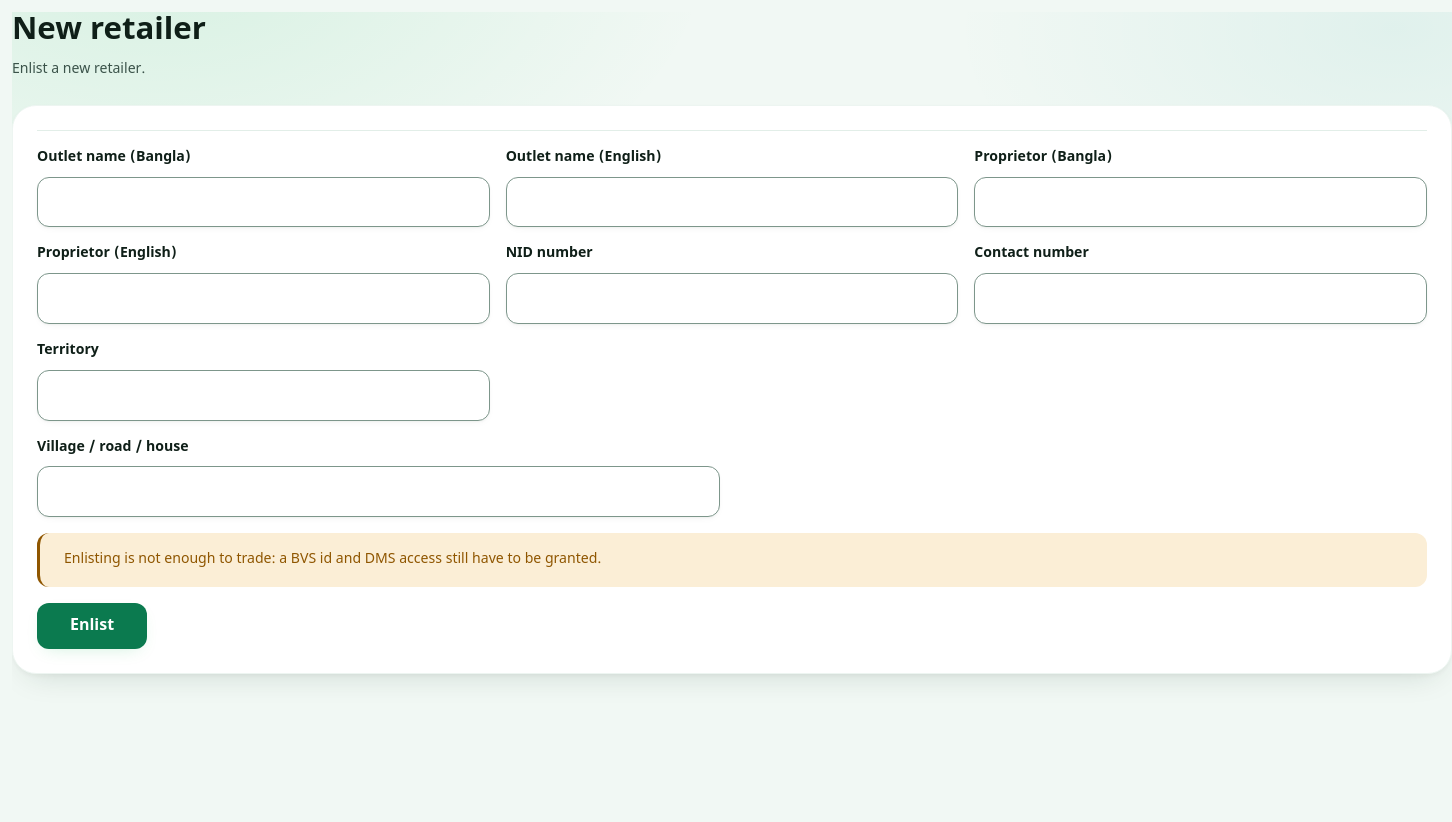
Scenario: retailers › holds a retailer record to the same name rules as an e-SAF
In the field labelled "Outlet name (Bangla)": [263, 202] box [38,178,489,226], type "Talukder"
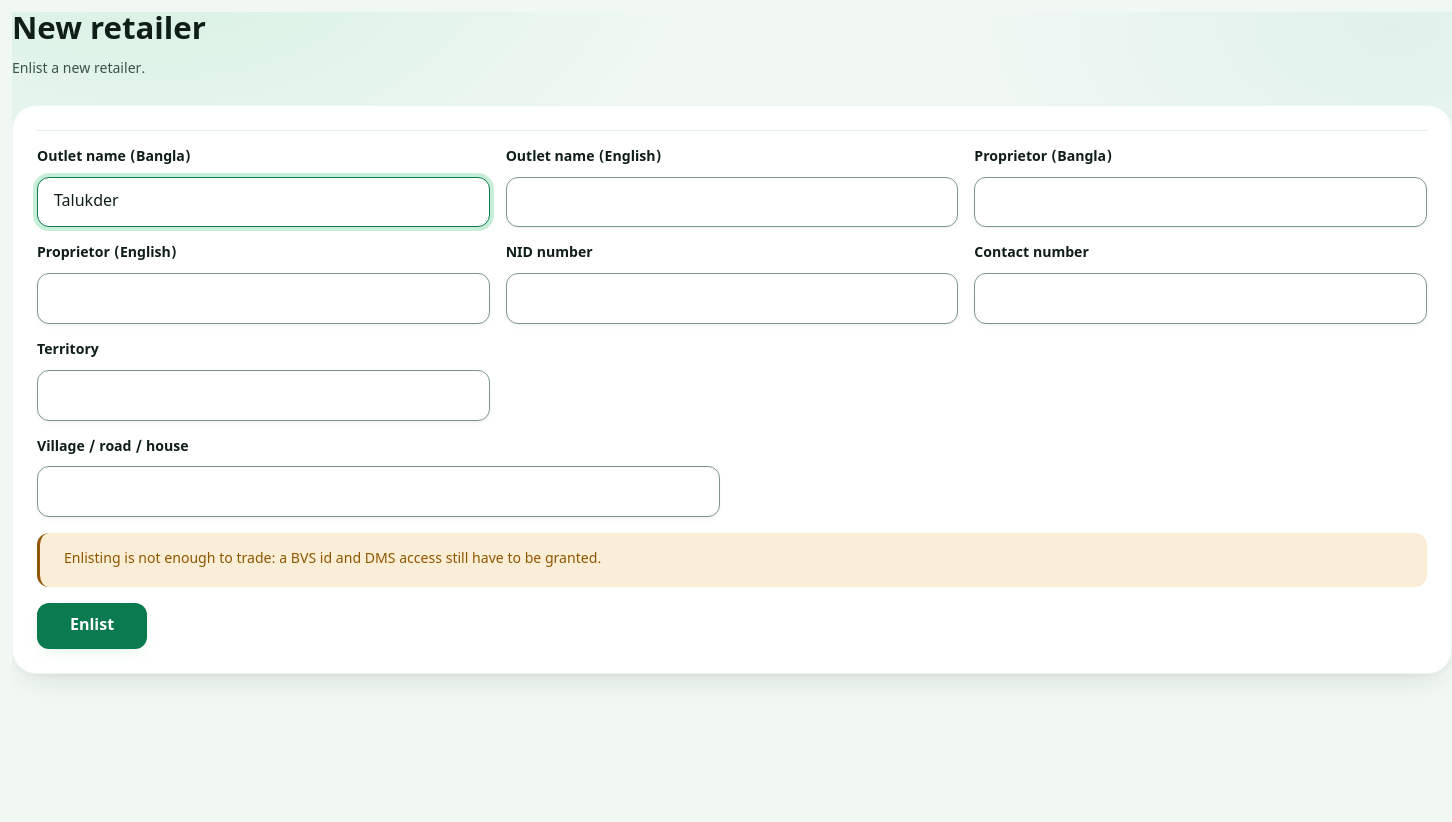
Click the button "Enlist": [92, 626] box [37,603,147,649]
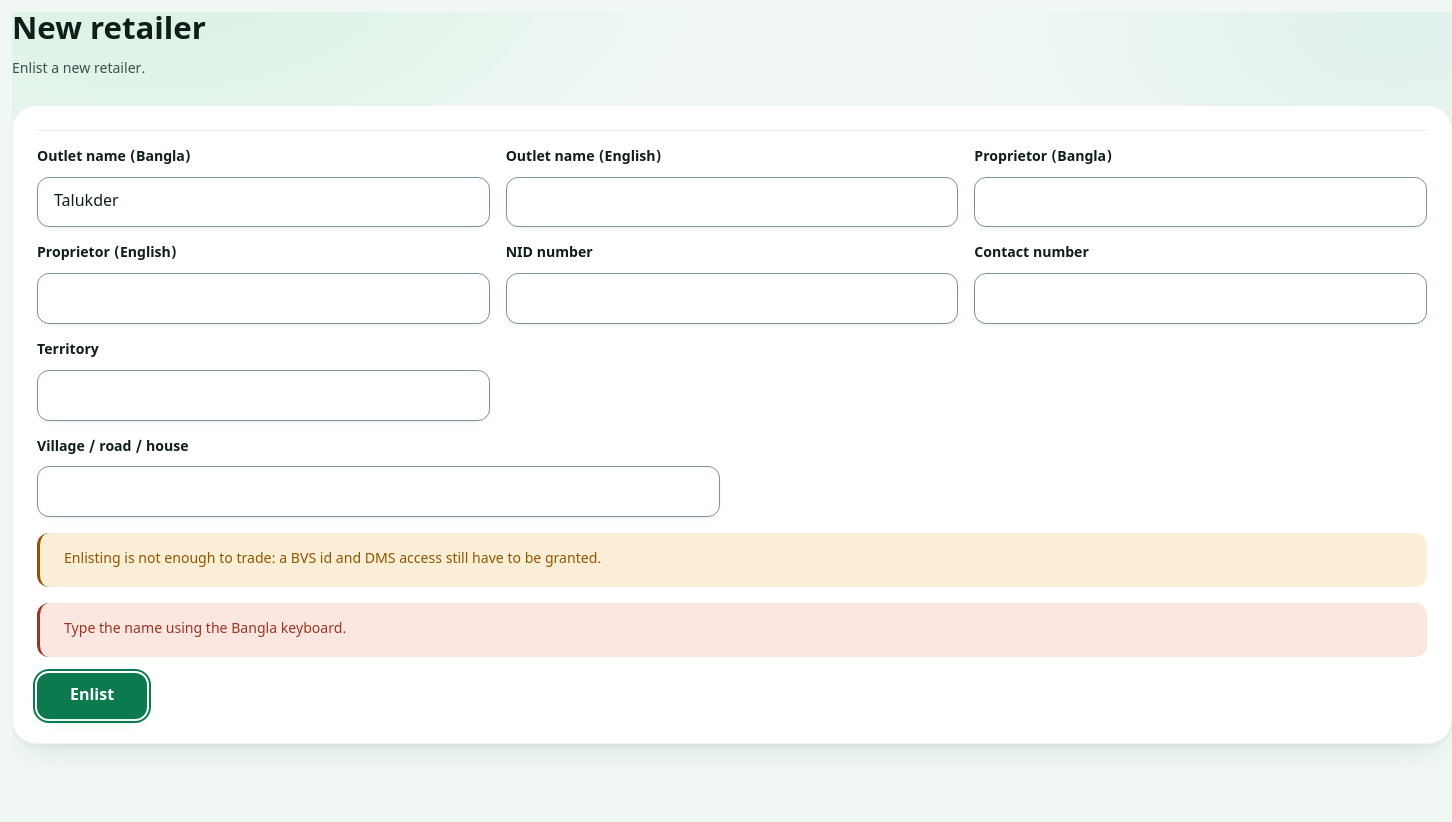
Expected: the text "Type the name using the Bangla keyboard." is shown, [37,603,1427,657]
